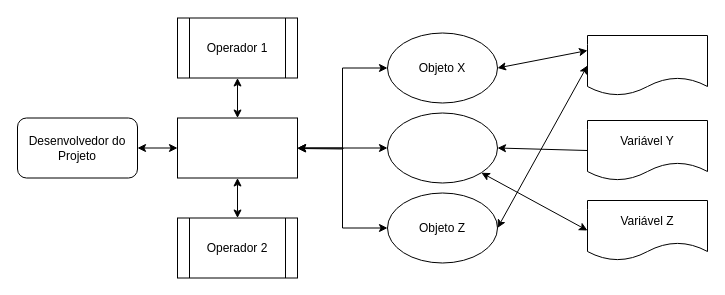
Image size: 725x295. Some labels were removed from this diagram. Here are the shapes that lost their labels. From the top down, the centre of each, then its label:
At point 647,65: "Variável X".
At point 237,147: "Projeto X".
At point 442,147: "Objeto Y".
